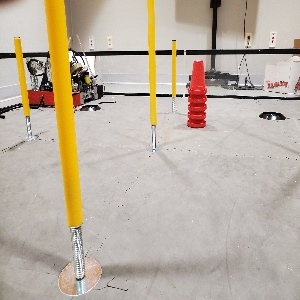Red_5: (184, 57, 208, 128)
